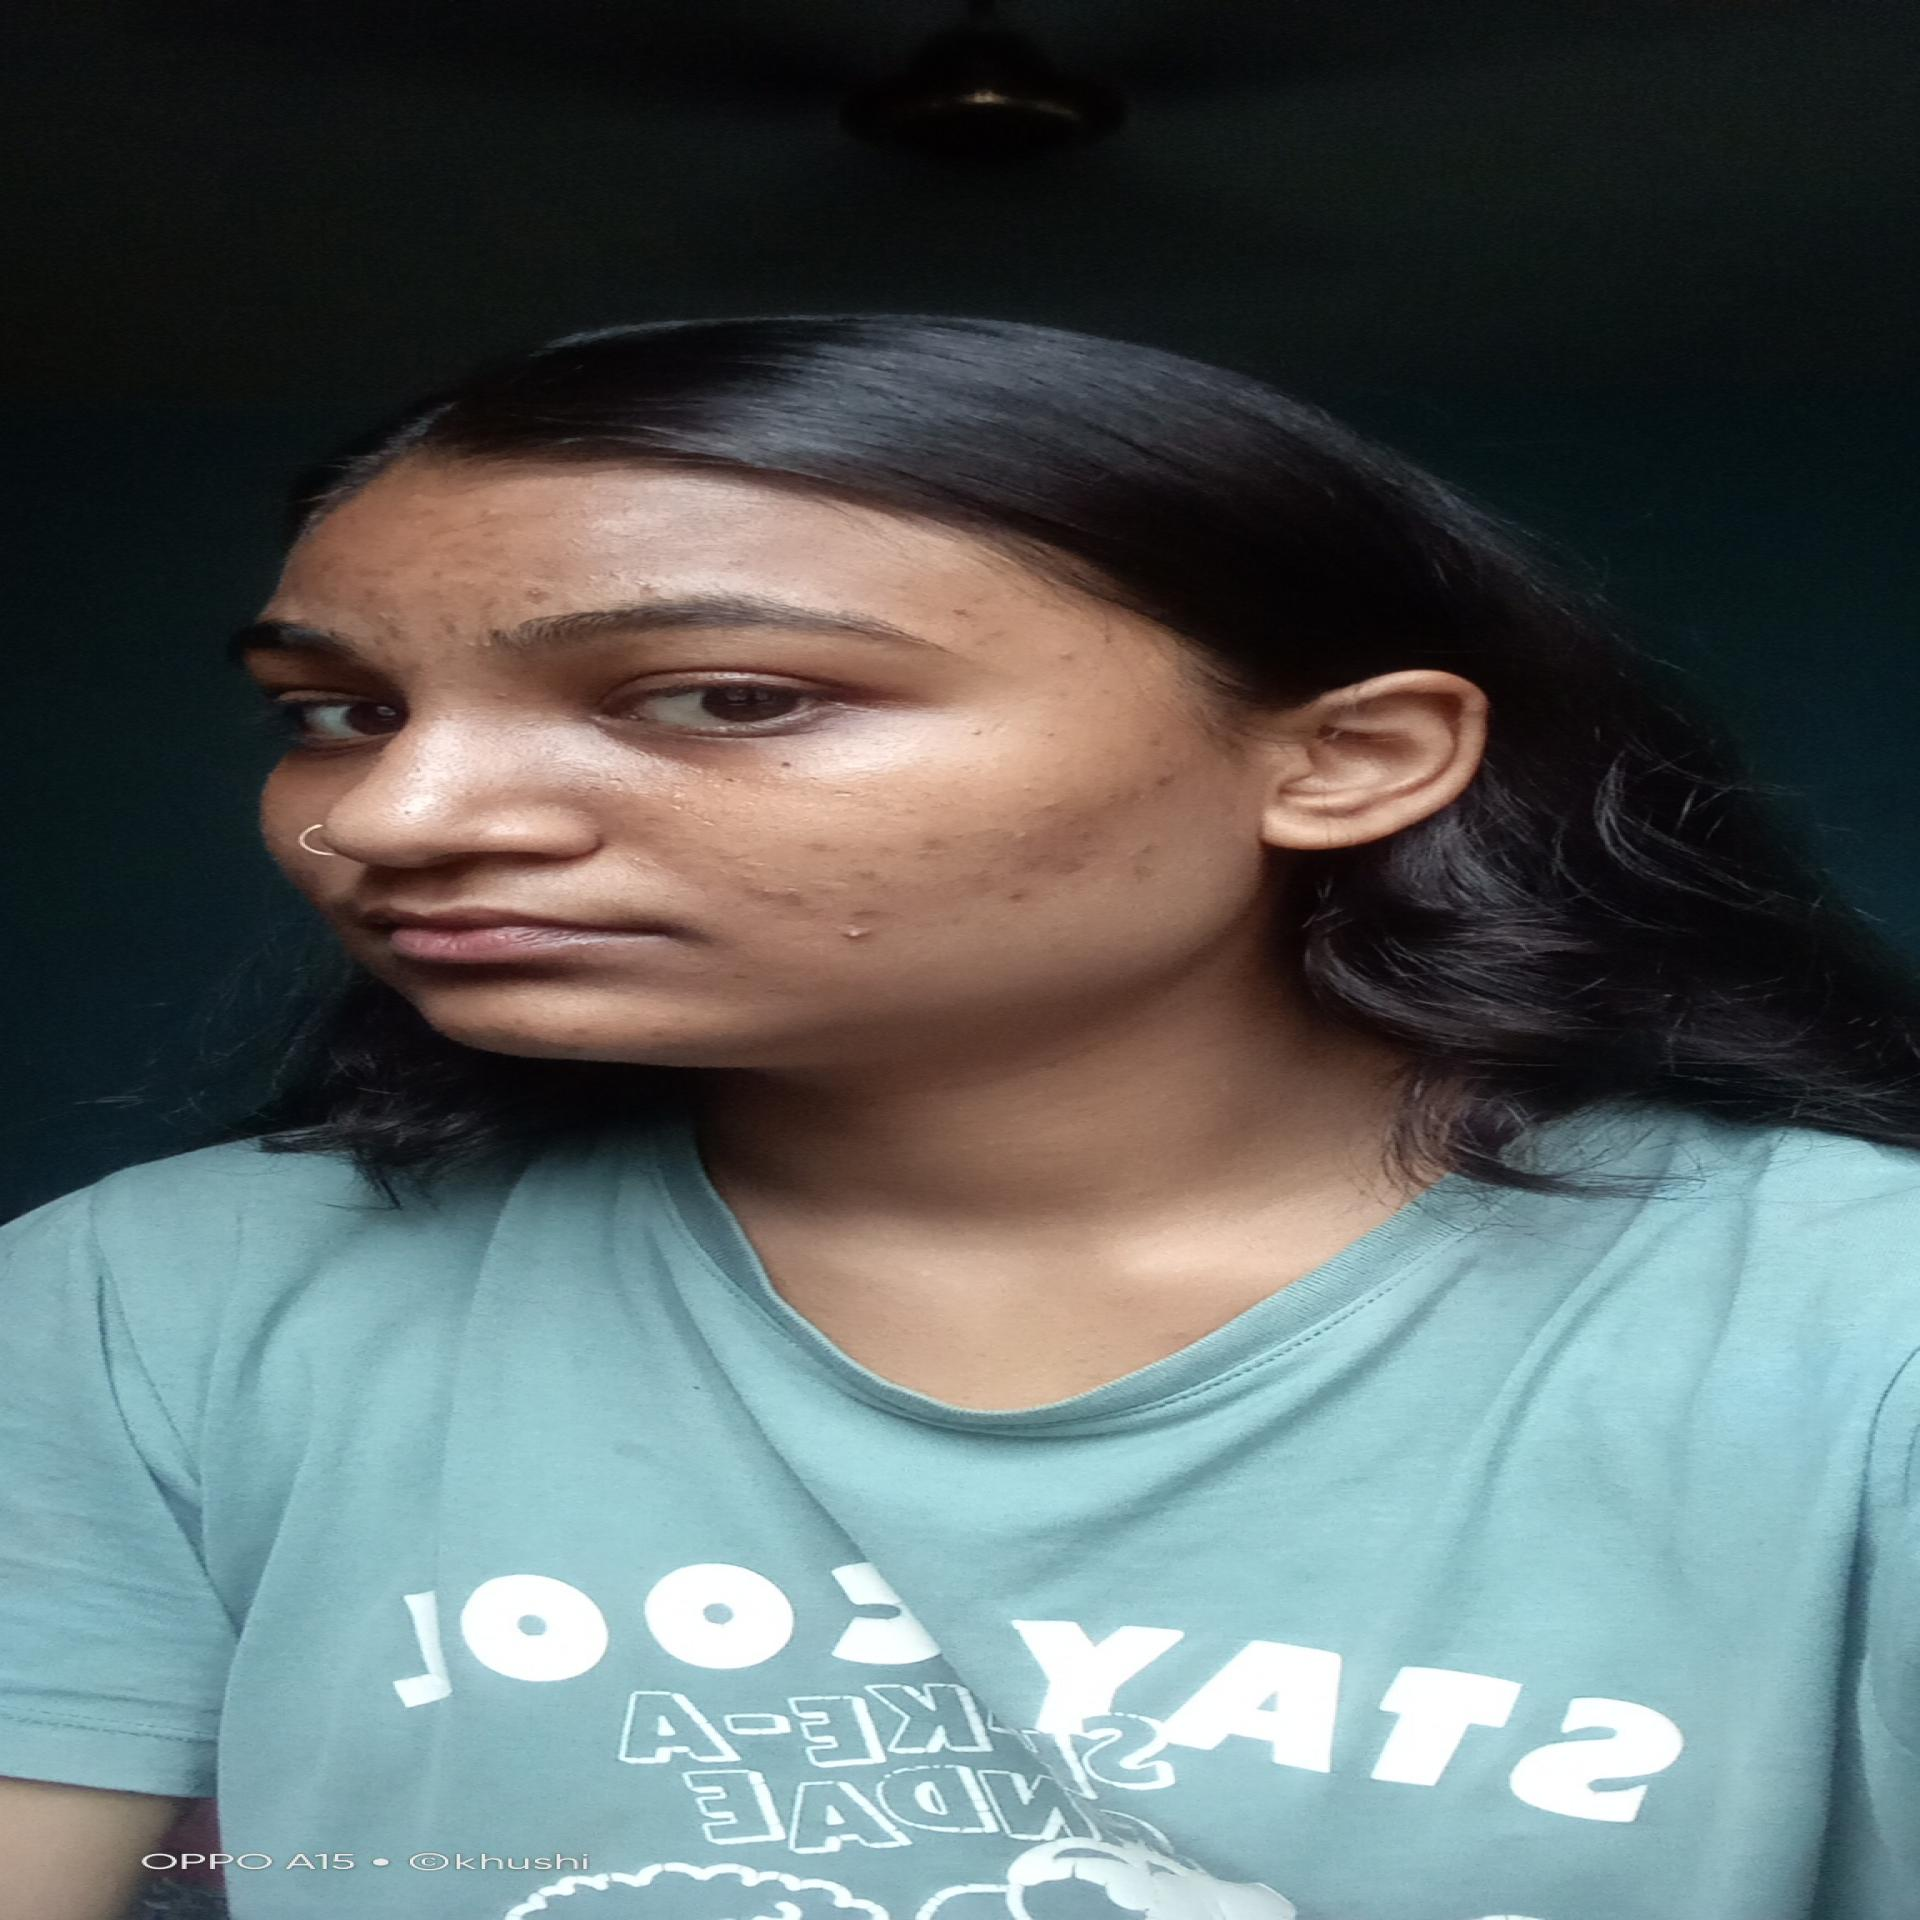Acne: (1113, 842, 1166, 883), (911, 833, 960, 862), (990, 886, 1043, 907), (1039, 858, 1095, 877), (768, 886, 828, 904), (835, 921, 881, 944), (1043, 645, 1083, 668), (635, 575, 675, 598), (847, 904, 898, 921), (1025, 796, 1073, 812), (478, 524, 517, 543), (519, 584, 550, 607), (440, 614, 464, 642), (946, 605, 979, 624), (389, 624, 411, 652), (563, 1025, 608, 1039), (1146, 774, 1187, 789), (811, 839, 847, 855), (352, 566, 399, 578), (714, 554, 756, 566), (471, 596, 506, 610), (433, 566, 466, 580), (452, 554, 489, 566), (858, 863, 879, 884), (487, 689, 519, 702), (360, 585, 382, 603), (408, 491, 441, 501), (492, 564, 517, 578), (484, 505, 505, 517)
